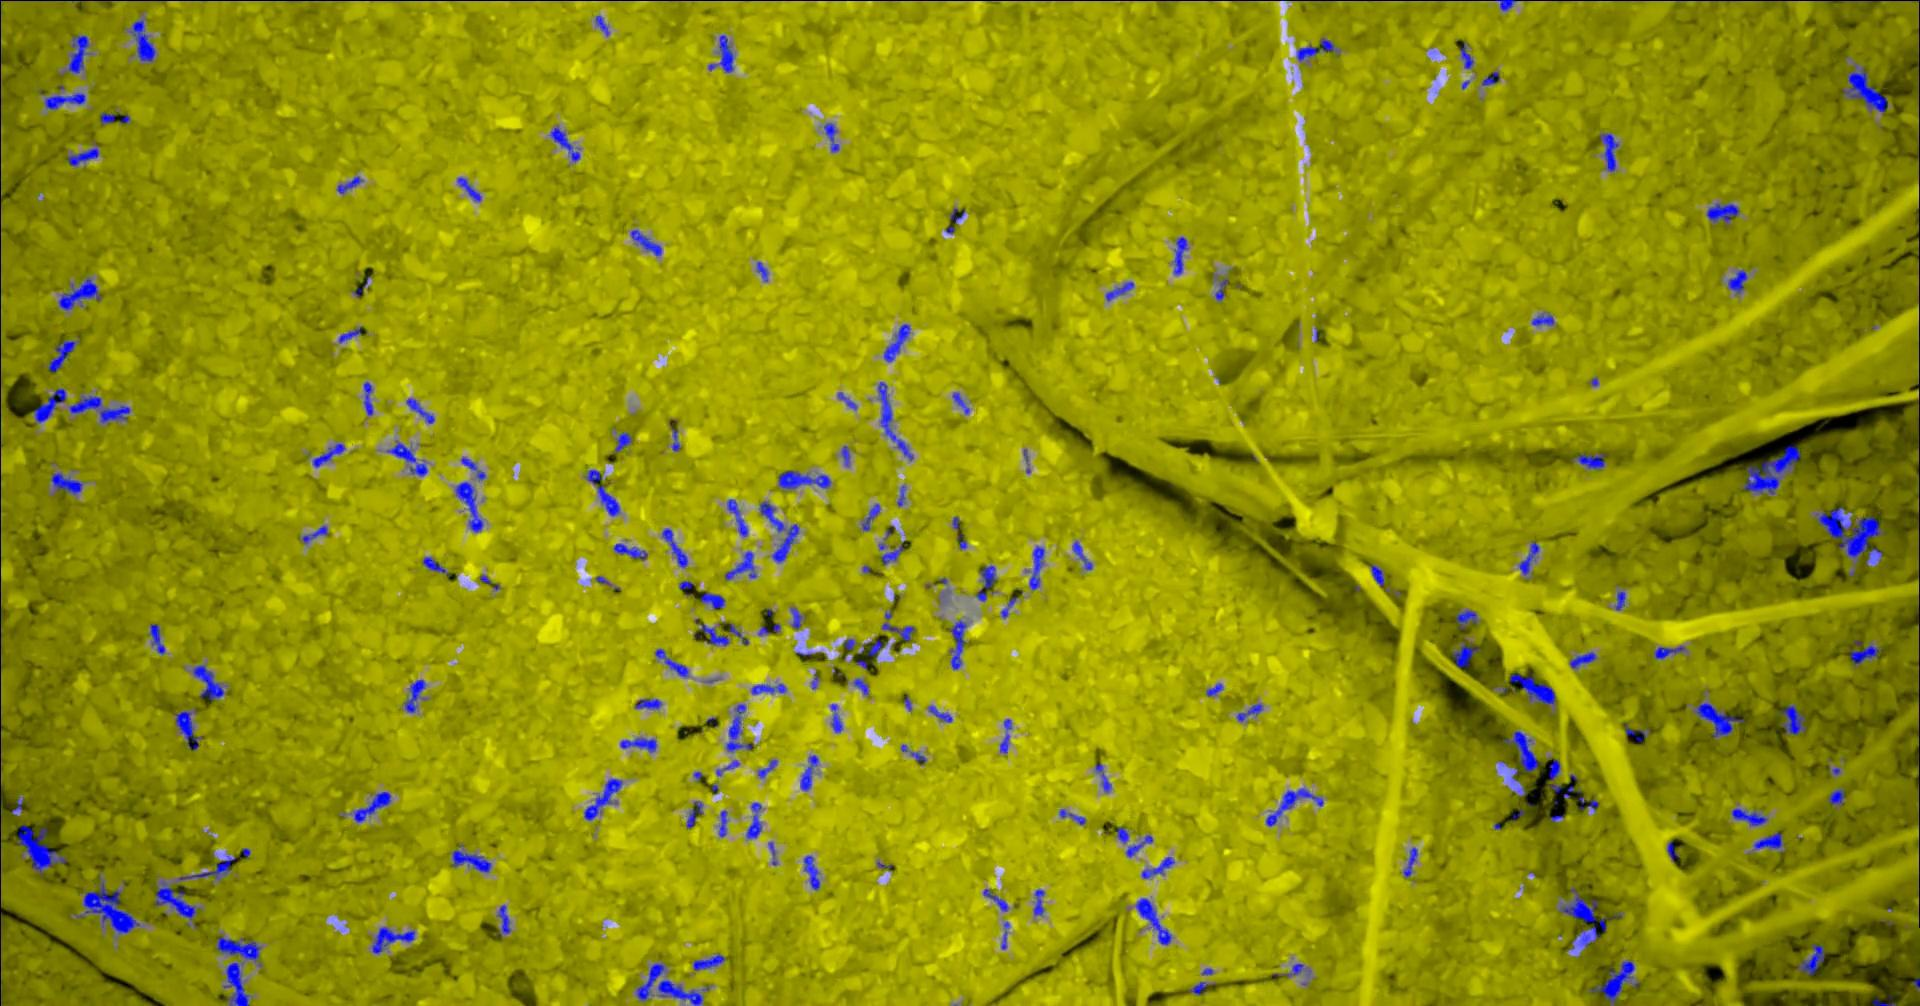ant: (1559, 887, 1611, 948), (877, 381, 913, 460), (636, 963, 702, 1005), (1547, 760, 1597, 810), (17, 824, 66, 873), (759, 500, 797, 561), (1589, 960, 1639, 1005), (1265, 788, 1323, 826), (1841, 67, 1887, 111), (1135, 897, 1171, 944), (1695, 702, 1743, 737), (583, 779, 622, 821), (152, 882, 196, 920), (69, 395, 130, 422), (1501, 730, 1538, 772), (386, 439, 427, 476), (1509, 673, 1556, 704), (58, 277, 102, 310), (455, 481, 483, 532), (178, 855, 234, 879), (725, 704, 750, 752), (451, 843, 491, 873), (222, 962, 249, 1005), (32, 387, 65, 422), (216, 936, 260, 962), (549, 124, 579, 161), (353, 791, 390, 822), (371, 927, 414, 953), (192, 664, 223, 699), (130, 19, 155, 61), (883, 323, 910, 361), (175, 709, 201, 749), (881, 610, 914, 640), (662, 528, 687, 567), (777, 470, 830, 488), (47, 339, 75, 372), (655, 648, 688, 676), (1796, 942, 1823, 976), (709, 34, 733, 72), (949, 619, 966, 669), (724, 551, 756, 579), (1297, 38, 1336, 60), (630, 229, 662, 255), (1453, 636, 1479, 667), (726, 498, 747, 536), (312, 443, 344, 467), (403, 680, 425, 713), (67, 36, 88, 72), (405, 398, 434, 423), (1517, 541, 1539, 575), (1780, 704, 1804, 734), (44, 91, 85, 109), (50, 473, 83, 494), (1848, 644, 1881, 666), (1142, 856, 1175, 878), (975, 565, 996, 600), (698, 622, 729, 645), (1752, 831, 1784, 852), (1599, 133, 1617, 171), (1029, 545, 1044, 589), (1705, 203, 1738, 224), (67, 144, 98, 165), (1731, 808, 1768, 826), (800, 754, 818, 790), (597, 485, 618, 514), (460, 456, 485, 480), (1072, 541, 1092, 570), (803, 855, 819, 890), (457, 177, 481, 201), (880, 540, 904, 564), (1125, 835, 1152, 856), (1105, 281, 1133, 301), (422, 556, 450, 577), (613, 542, 648, 559), (745, 801, 761, 838), (983, 888, 1007, 911), (1173, 236, 1187, 274), (618, 737, 657, 751), (1236, 702, 1262, 721), (1623, 721, 1650, 741), (693, 954, 724, 970), (149, 622, 164, 654), (1095, 763, 1111, 793), (861, 503, 879, 530), (301, 525, 328, 542), (1573, 453, 1604, 469), (728, 622, 748, 645), (1727, 269, 1746, 293), (860, 639, 885, 657), (823, 122, 838, 151), (497, 904, 510, 936), (1271, 963, 1303, 977), (1570, 652, 1596, 668), (686, 801, 702, 828), (1455, 608, 1477, 629), (1403, 847, 1417, 876), (337, 177, 361, 193), (700, 592, 724, 608), (927, 705, 951, 721), (999, 718, 1011, 752), (1459, 41, 1473, 69), (1059, 809, 1084, 824), (1655, 645, 1684, 658), (715, 760, 739, 775), (750, 683, 786, 694), (757, 760, 777, 777), (615, 431, 631, 452), (1189, 981, 1214, 995), (837, 391, 856, 409), (952, 392, 969, 413), (830, 702, 842, 732), (338, 328, 361, 342), (479, 574, 499, 589), (1001, 597, 1016, 617), (363, 381, 372, 415), (669, 424, 681, 451), (1370, 564, 1384, 586), (1032, 889, 1044, 915), (634, 699, 662, 709), (1214, 278, 1227, 300), (1531, 312, 1553, 325), (758, 622, 780, 635), (1829, 789, 1845, 805), (596, 15, 608, 36), (717, 810, 728, 836), (949, 207, 964, 224), (1481, 71, 1498, 85), (1001, 921, 1010, 949), (790, 607, 801, 629), (1870, 995, 1895, 1005), (756, 260, 767, 281), (585, 469, 601, 484), (1666, 841, 1677, 861), (99, 111, 116, 124), (1206, 682, 1223, 696), (1495, 0, 1516, 10), (853, 678, 867, 694), (1615, 591, 1625, 610), (1116, 826, 1128, 842), (841, 445, 850, 465)
